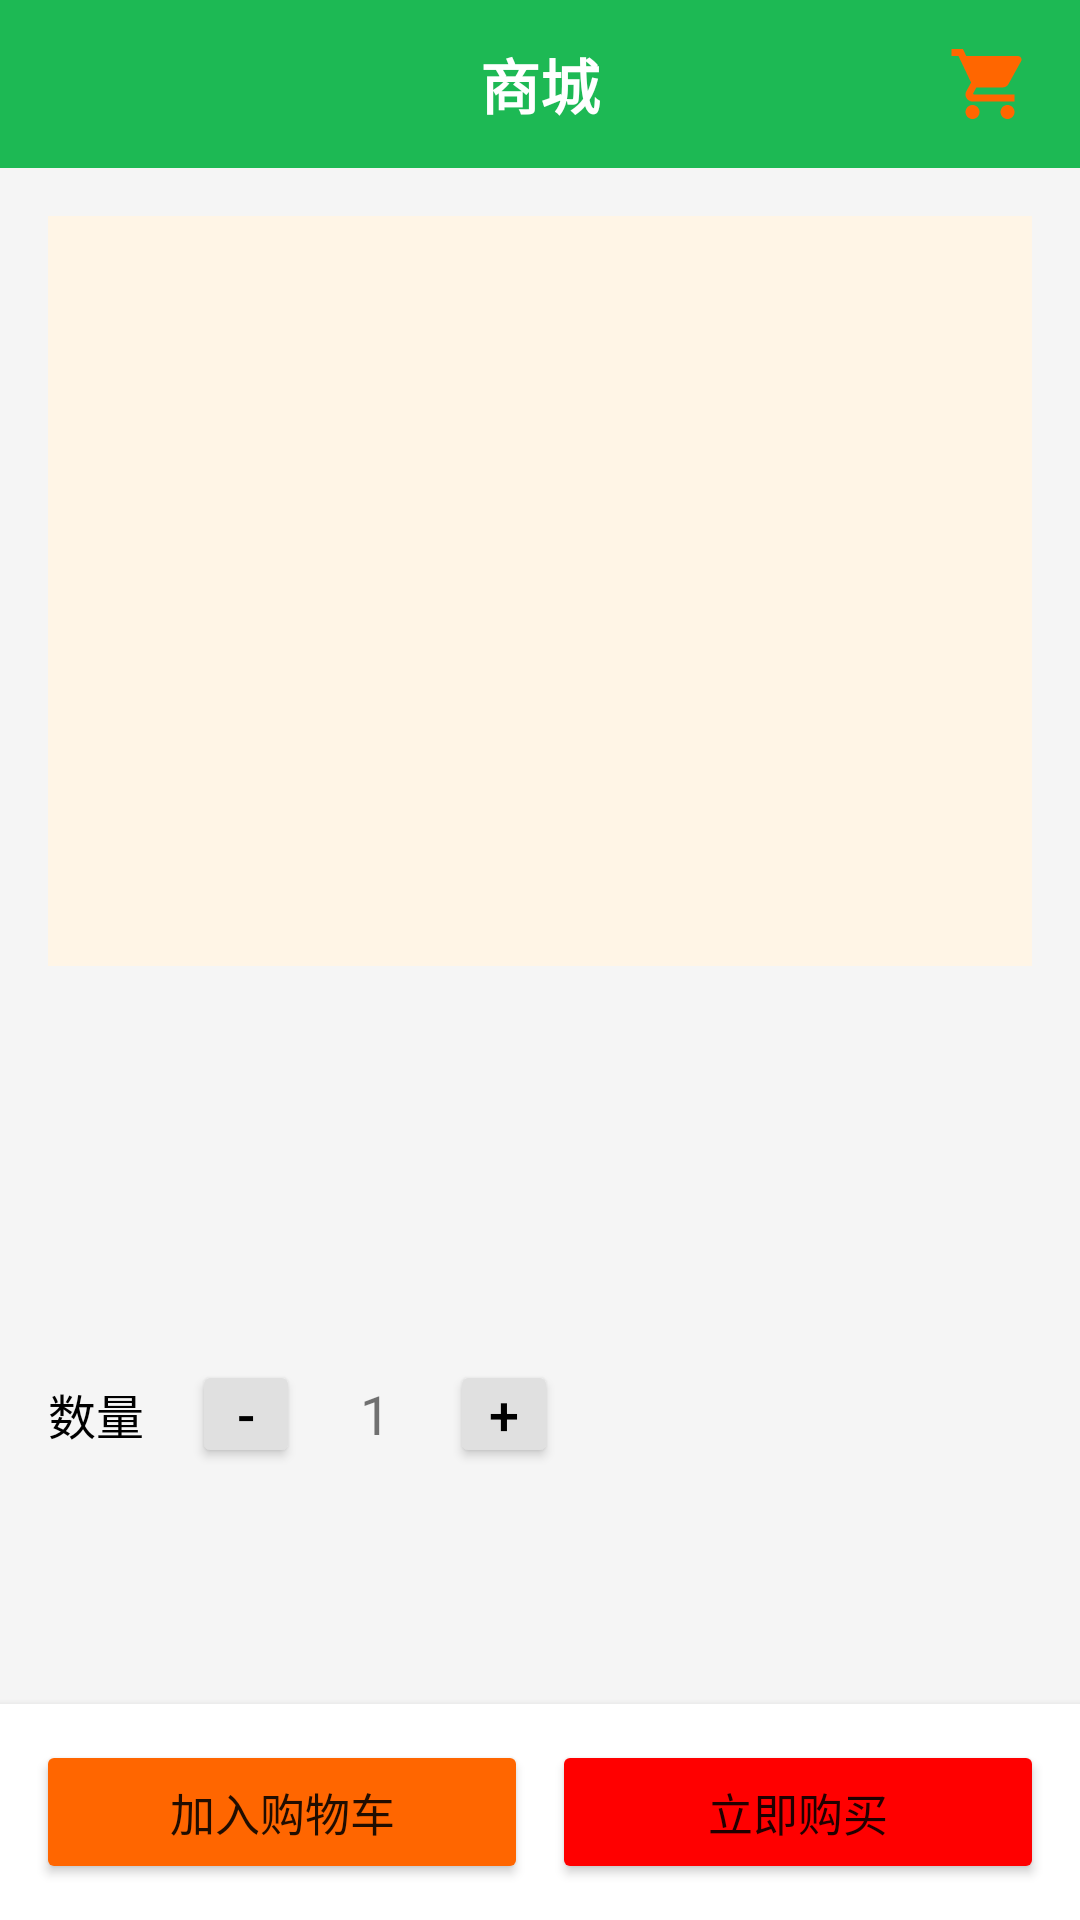

Icon bounding boxes for this 1080x1920 phone screenshot, format [x1, y1, x2, y2]:
购物车: [951, 49, 1022, 119]
